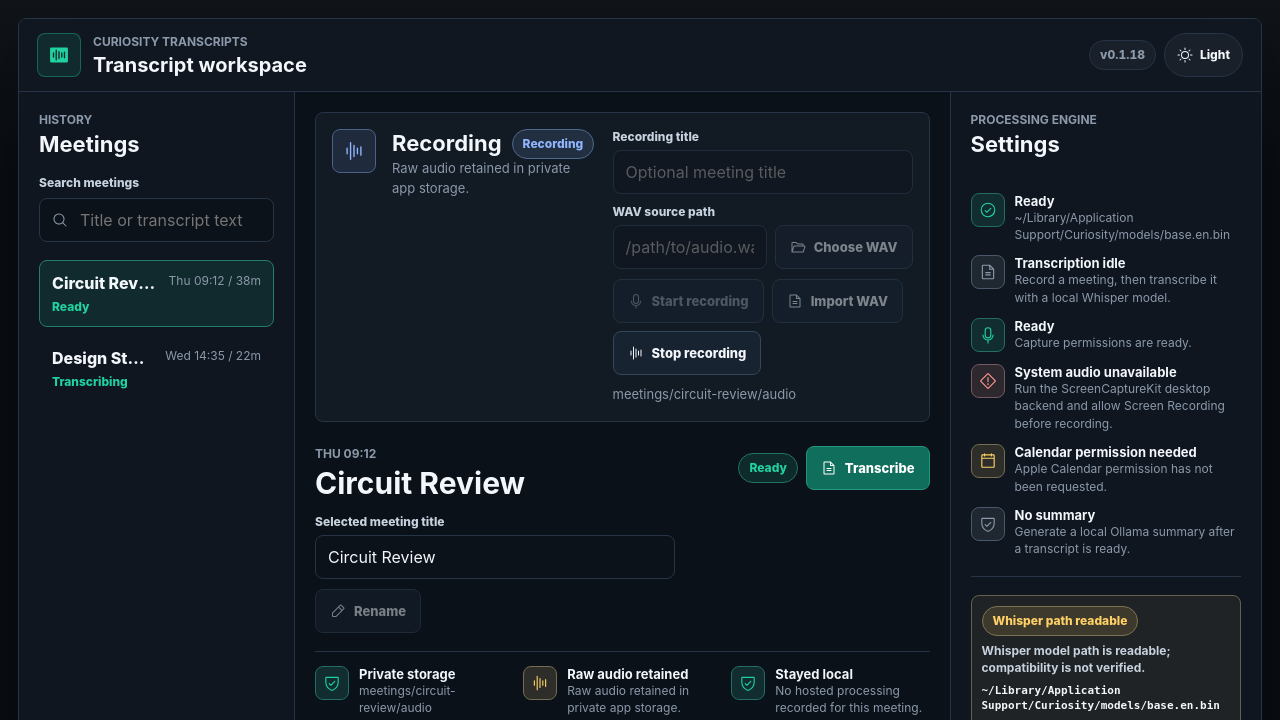
desktop workspace shell › renames the selected meeting through the desktop command
Step 1. Replace the text in the field labelled "Selected meeting title" with "Renamed Planning" → (495, 557), box [315, 535, 675, 579]
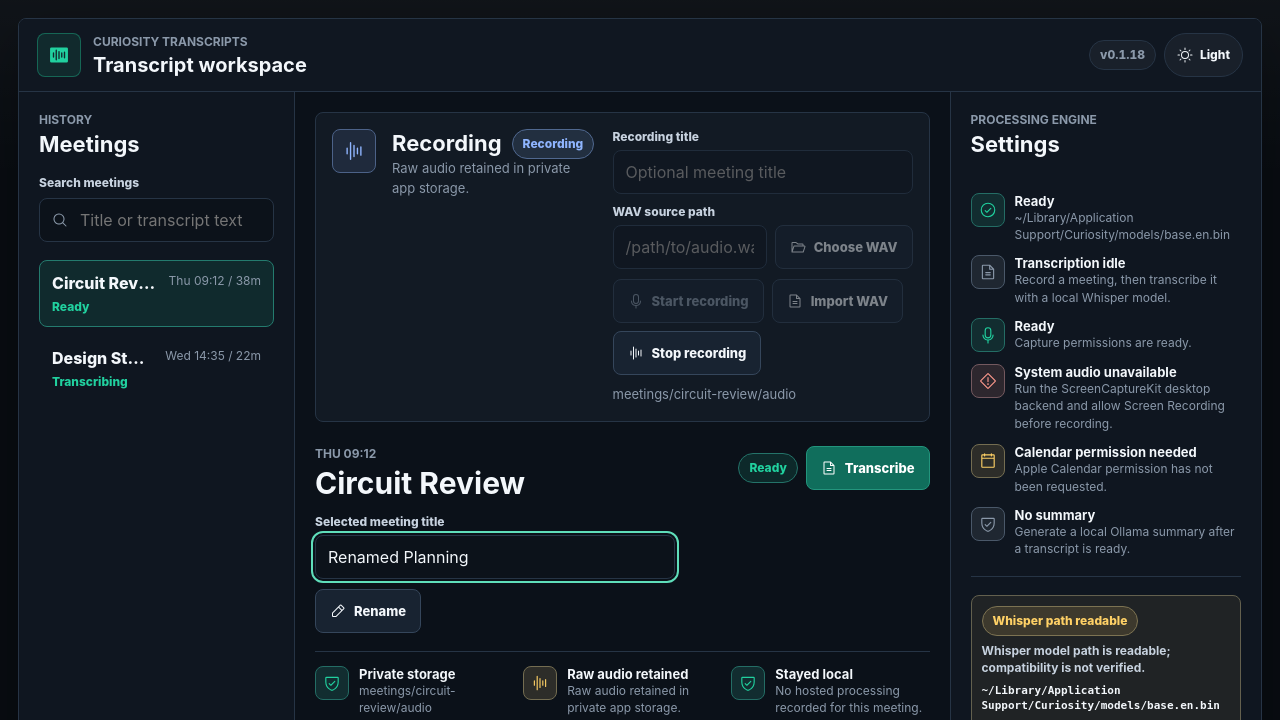
Step 2. Click the button "Rename" → (368, 611), box [315, 589, 421, 633]
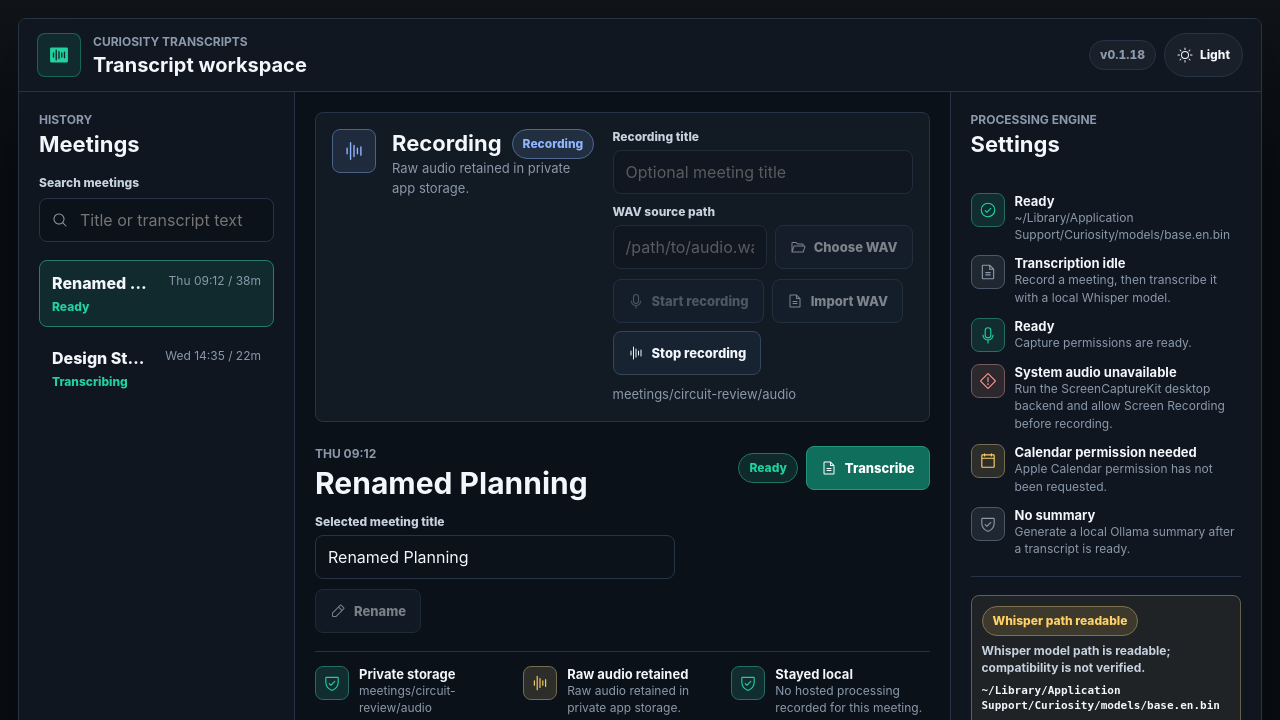
Expected: the heading "Renamed Planning" is shown, [315, 464, 588, 500]
